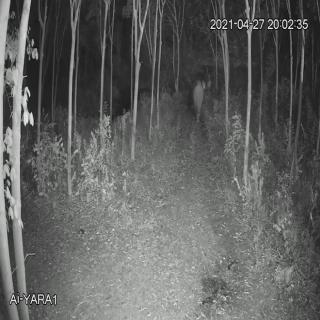Elephant: (186, 73, 211, 124)
